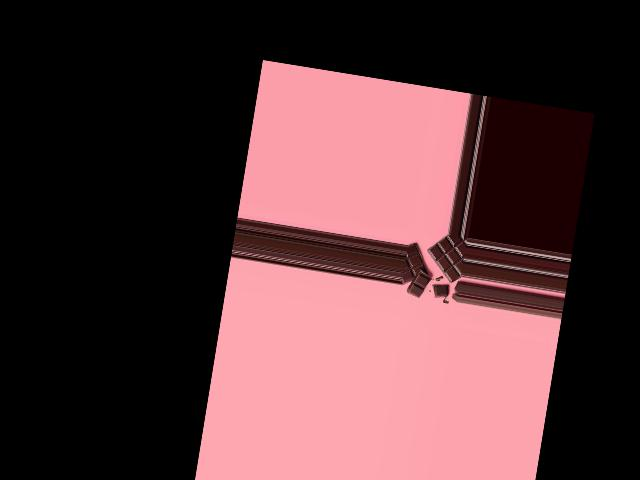chocolate: (404, 228, 467, 299)
